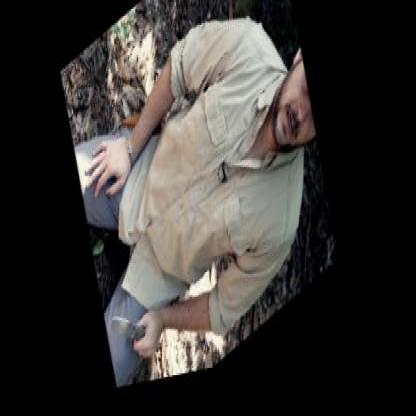knife: (107, 284, 168, 394)
